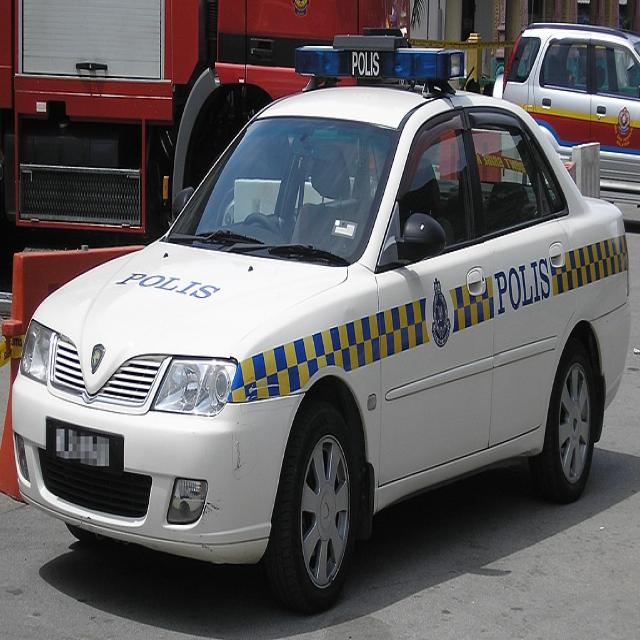Police: (0, 25, 639, 620)
